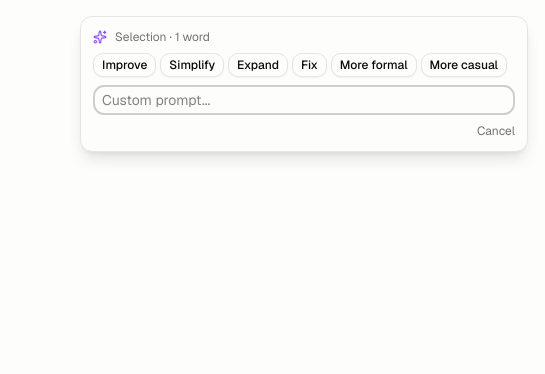
Test: InlineAI › should show keyboard shortcuts in footer
The width and height of the screenshot is (545, 374).
What coordinates should you click on to do the following:
click the button "Improve"
I would click on:
 (125, 65)
Its box is [93,53,156,77].
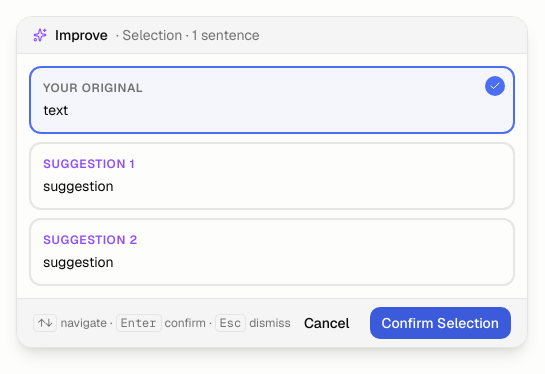
Check: the text "↑↓ navigate · Enter confirm · Esc dismiss" is shown, box [33,315,291,331]
